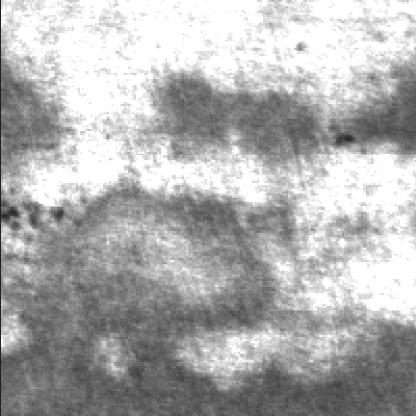patches: (0, 181, 281, 379), (148, 72, 404, 166), (156, 343, 412, 416), (0, 58, 52, 174)
